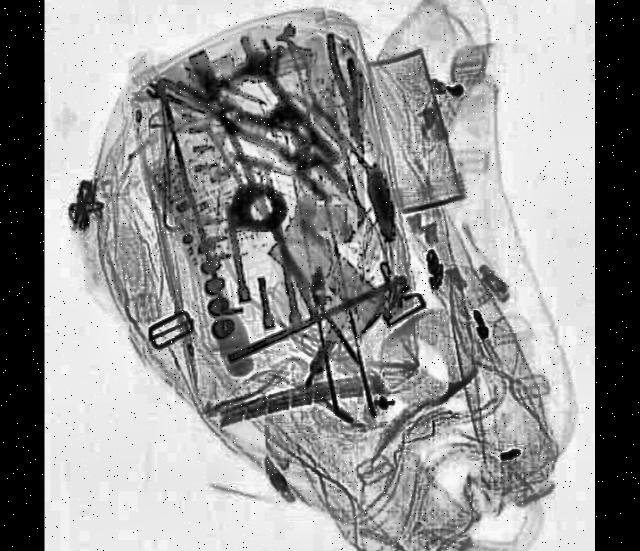Pliers: (176, 5, 359, 200), (326, 24, 377, 154)
